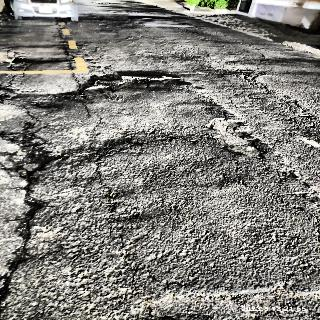alligator-crack: (227, 64, 320, 125), (0, 48, 32, 96)
crack: (0, 111, 52, 305), (82, 103, 126, 205), (54, 20, 87, 100)
pothole: (77, 68, 191, 99), (200, 117, 272, 162)
